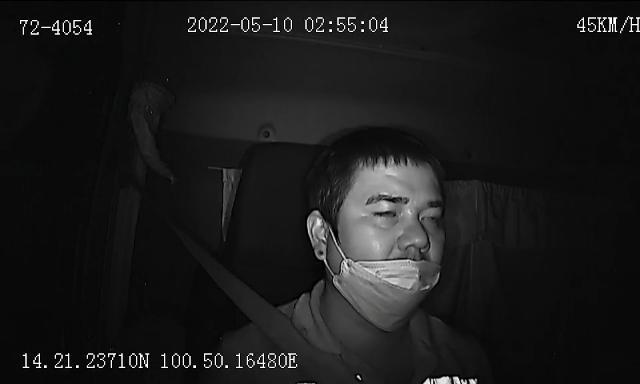SafeDriving: (366, 201, 406, 225), (416, 203, 446, 227)
Seatbelt: (193, 242, 314, 384)
